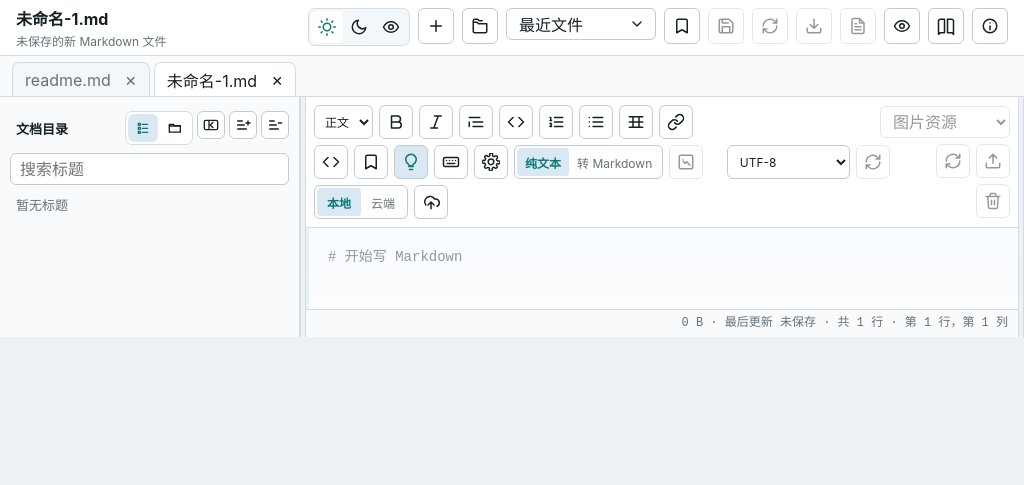
App › saves an untitled draft before storing a clipboard image on Cmd+V
In the text box with test id "editor": [662, 268] box [306,228,1018,309], type "# Draft"
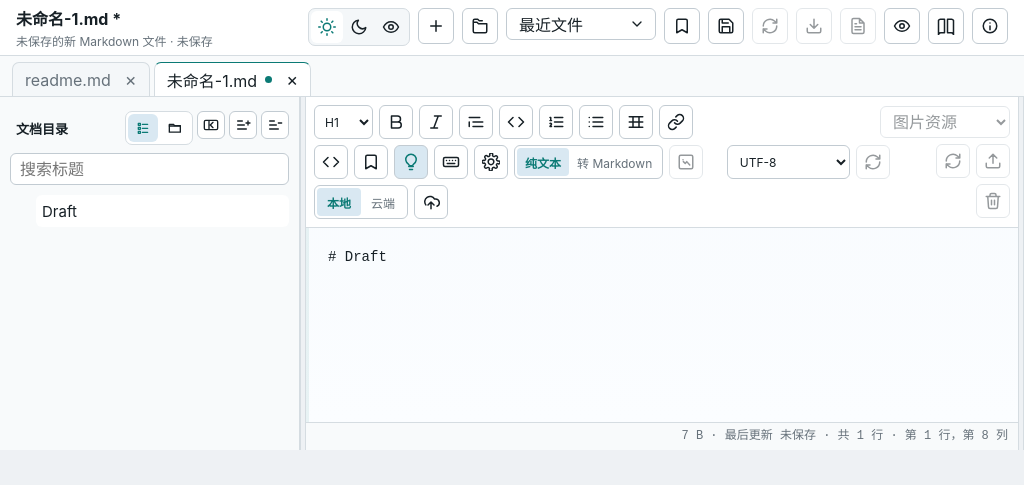
Press v in the text box with test id "editor", box [306,228,1018,422]
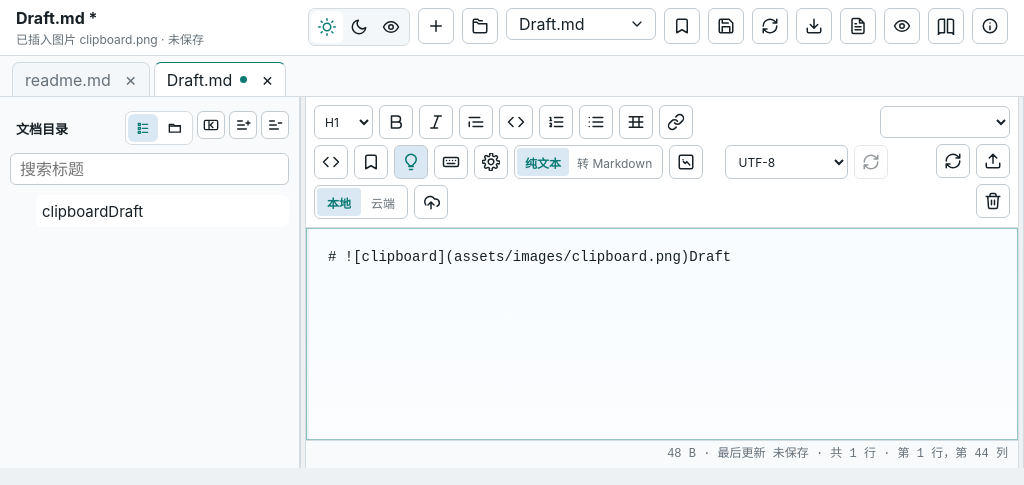
Check: the text box with test id "editor" holds "# ![clipboard](assets/images/clipboard.png)Draft", box [306,228,1018,440]
